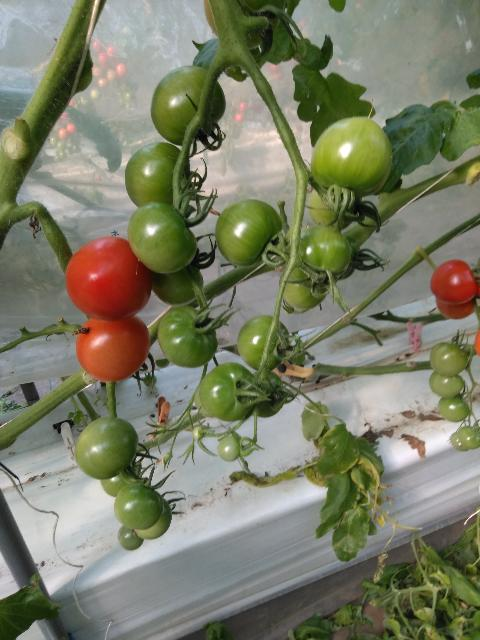l_fully_ripened: (65, 236, 153, 322), (430, 259, 477, 303), (435, 298, 475, 319)
l_green: (310, 117, 392, 197), (150, 64, 227, 146), (128, 201, 197, 275), (214, 198, 282, 268), (124, 142, 189, 211), (74, 416, 139, 481), (287, 225, 351, 290), (158, 306, 218, 369), (199, 362, 258, 422), (237, 315, 291, 371), (309, 184, 363, 231), (113, 482, 164, 531), (151, 261, 204, 307), (280, 270, 328, 310), (132, 498, 172, 540), (99, 461, 141, 499), (251, 370, 284, 417), (430, 342, 468, 377), (428, 371, 464, 398), (437, 394, 470, 422), (216, 435, 242, 462), (118, 525, 144, 551), (458, 426, 480, 449), (450, 431, 469, 451), (193, 426, 203, 440)
l_half_ripened: (75, 315, 151, 382)
